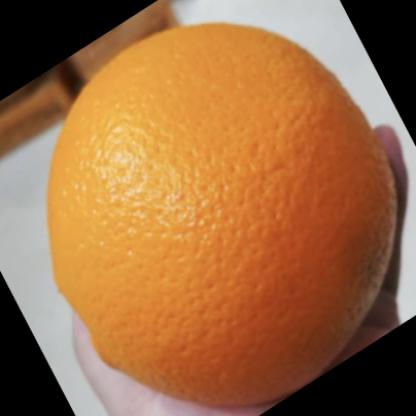fresh: (48, 22, 398, 410)
